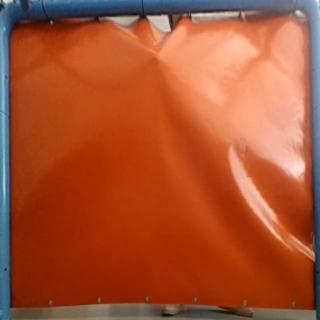Hit-hRxx: (147, 49, 164, 65)
